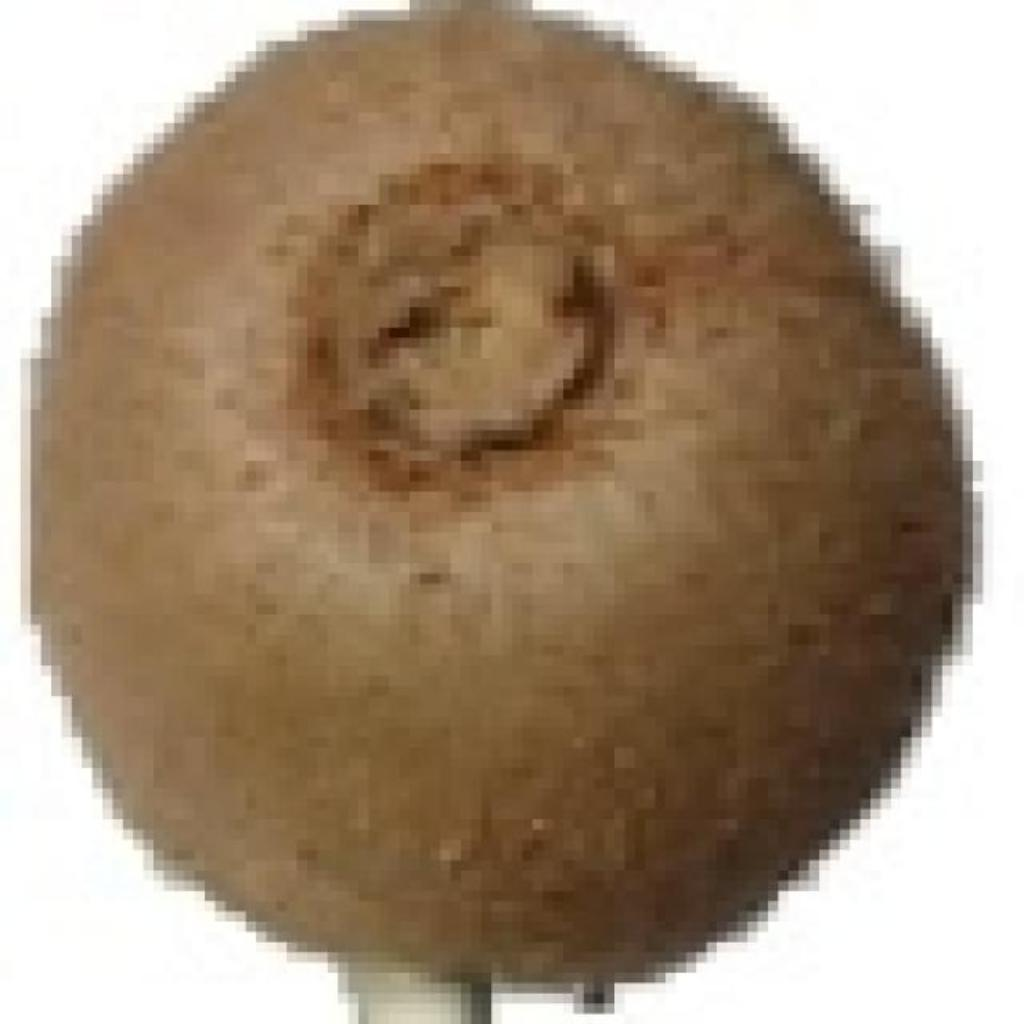kiwi: (36, 9, 965, 1022)
